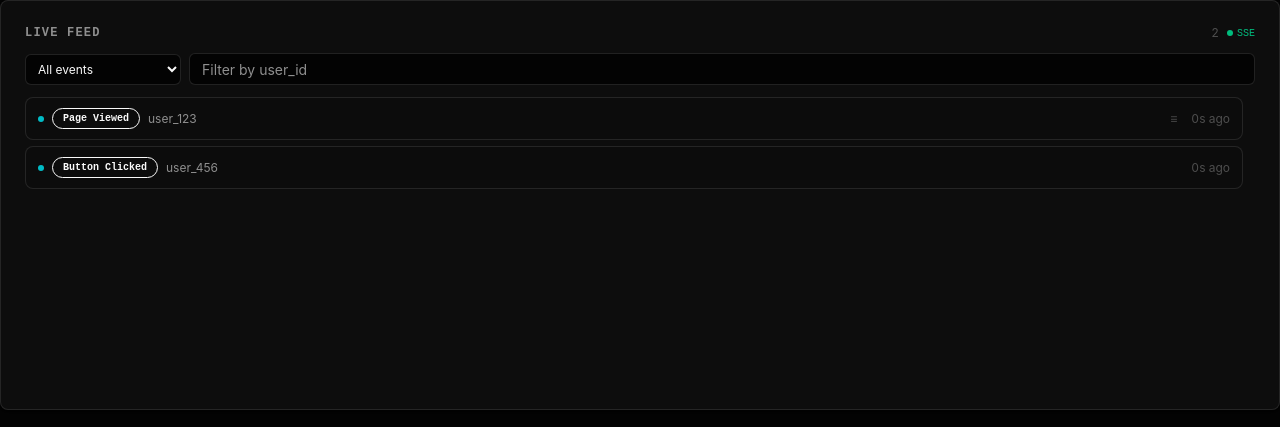
Scenario: EventFeed › clicking a user_id sets the userId filter input
The width and height of the screenshot is (1280, 427).
Click the button "user_123".
click(172, 118)  # box x1=148 y1=110 x2=197 y2=126
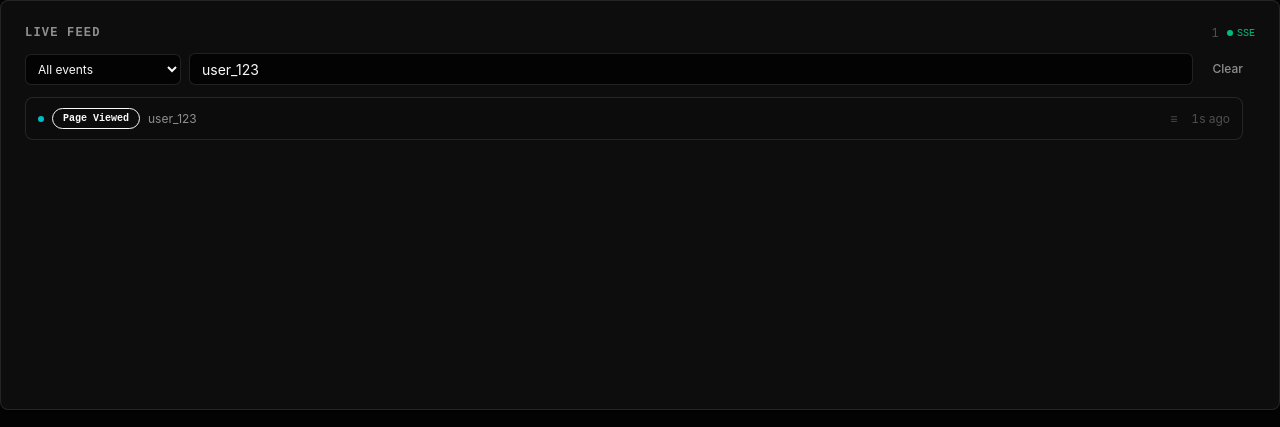
Expected: the field named "Filter by user ID" holds "user_123", x1=189 y1=53 x2=1192 y2=85
